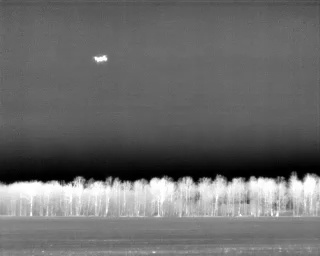DRONE: (90, 50, 112, 68)
